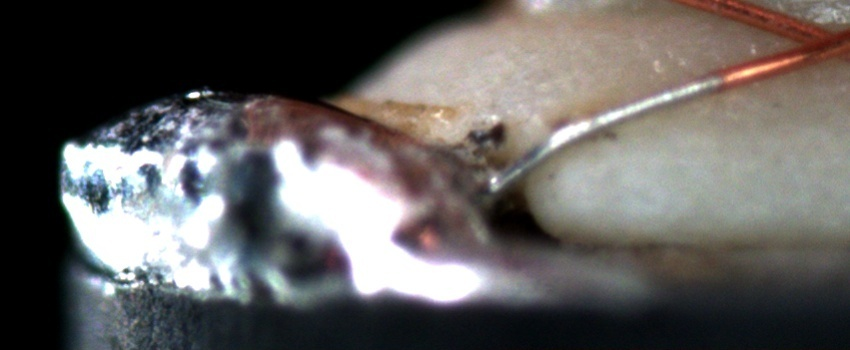CL: (772, 9, 849, 64)
TS: (496, 74, 727, 192)
